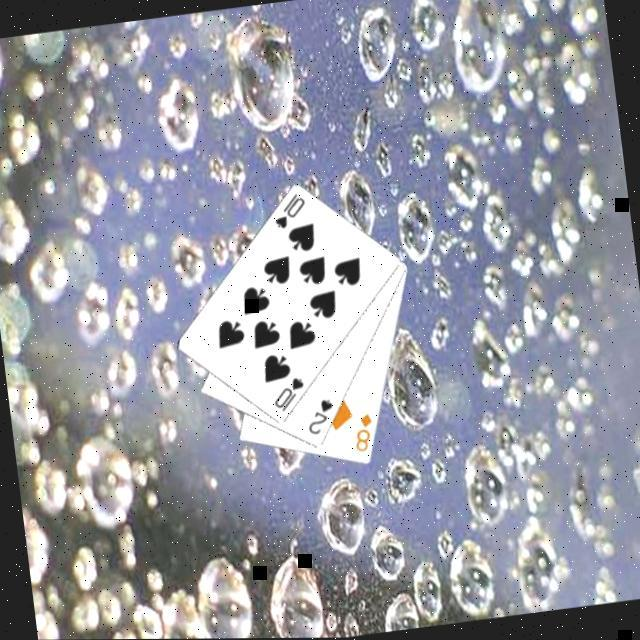10S: (266, 372, 308, 414), (266, 188, 308, 230)
2S: (298, 393, 338, 437)
8D: (346, 408, 376, 455)
